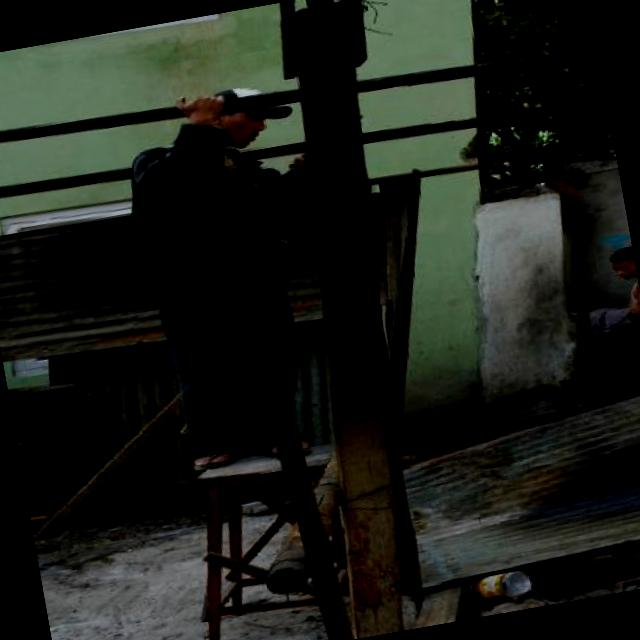Person: (110, 69, 380, 539), (572, 245, 640, 400)
